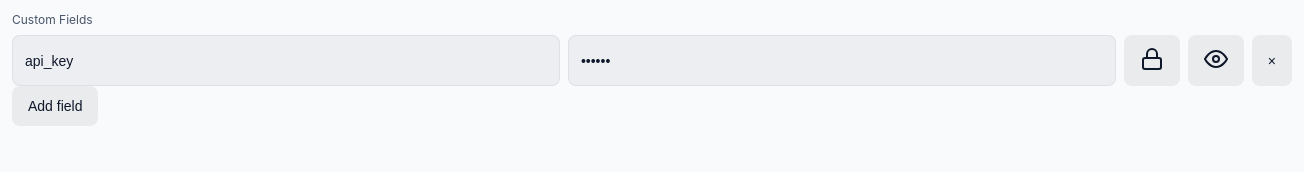
Test: secret rows toggle their mask through the aria-pressed button
Click the button named "Show field 1 value": (1216, 60) [1188,35,1244,86]
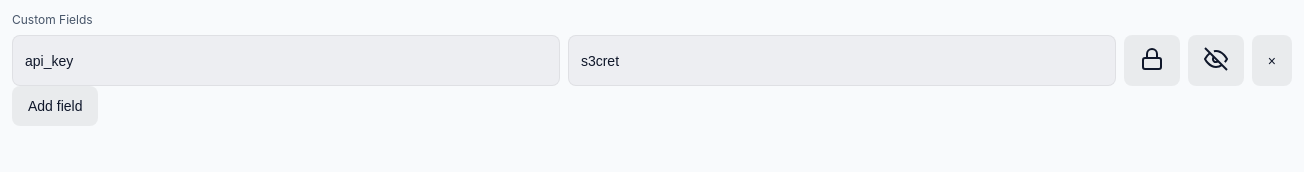
Now the field named "Field 1 value" shows its text, box [568,35,1116,86]
